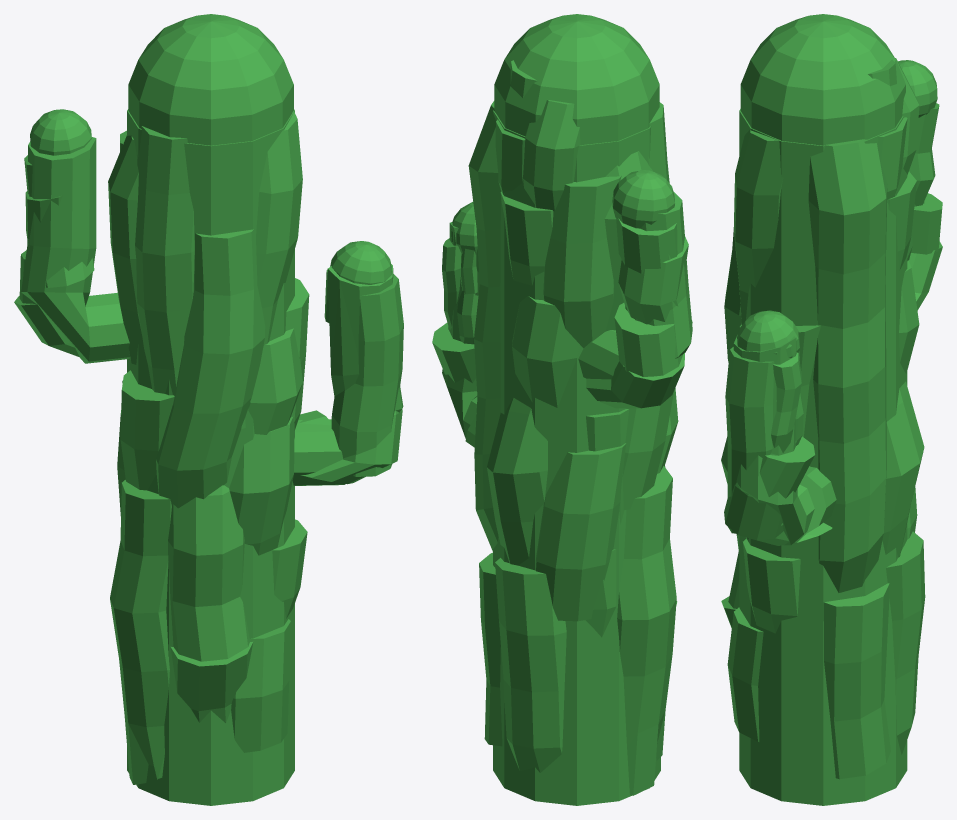
3 views of the same model, side by side, from view 1: azimuth 30°, elevation 25°; view 2: azimuth 150°, elevation 25°; view 3: azimuth 270°, elevation 25° (orthographic).
Visible parts, largest first — view 1: mesh_382927963, group_971259782, mesh_1535359903, group_892376278, group_685028889, group_1022697431, group_1075009949, group_6288520, group_747489910, group_177873782, group_1889484856, group_1030178086 (+11 smaller); view 2: mesh_382927963, mesh_1535359903, group_892376278, group_539377868, group_165768616, group_1234163999, group_576541986, group_1693647657, group_1273665493, group_949984117, group_685028889, group_1416357687 (+19 smaller); view 3: mesh_382927963, group_1234163999, mesh_1535359903, group_1356275901, group_747489910, group_1693647657, group_539377868, group_6288520, group_1677456782, group_177873782, group_1967178811, group_1030178086 (+15 smaller).
Boxes of the visible parts, x1,y1,x2,y2 form: mesh_382927963: (127, 109, 294, 805); group_971259782: (156, 229, 265, 508); mesh_1535359903: (128, 14, 293, 145); group_892376278: (110, 480, 171, 784); group_685028889: (21, 137, 130, 363); group_1022697431: (135, 126, 194, 395); group_1075009949: (168, 485, 249, 661); group_6288520: (331, 274, 403, 476); group_747489910: (241, 111, 302, 428); group_177873782: (292, 264, 403, 485); group_1889484856: (229, 417, 294, 555); group_1030178086: (231, 619, 290, 752); mesh_382927963: (493, 110, 660, 805); mesh_1535359903: (494, 14, 659, 145); group_892376278: (617, 466, 676, 795); group_539377868: (495, 558, 566, 772); group_165768616: (535, 443, 626, 621); group_1234163999: (468, 101, 500, 551); group_576541986: (543, 175, 621, 348); group_1693647657: (487, 119, 547, 565); group_1273665493: (512, 296, 579, 407); group_949984117: (523, 99, 580, 211); group_685028889: (578, 191, 692, 379); group_1416357687: (622, 391, 673, 509); mesh_382927963: (739, 109, 907, 805); group_1234163999: (808, 139, 887, 592); mesh_1535359903: (740, 14, 905, 145); group_1356275901: (823, 583, 890, 779); group_747489910: (733, 130, 792, 324); group_1693647657: (877, 117, 924, 557); group_539377868: (886, 531, 925, 754); group_6288520: (725, 347, 782, 533); group_1677456782: (724, 436, 832, 545); group_177873782: (733, 335, 814, 545); group_1967178811: (743, 539, 800, 633); group_1030178086: (727, 607, 763, 741).
Size of the model in its own units: 83.04 by 194 by 51.52.
